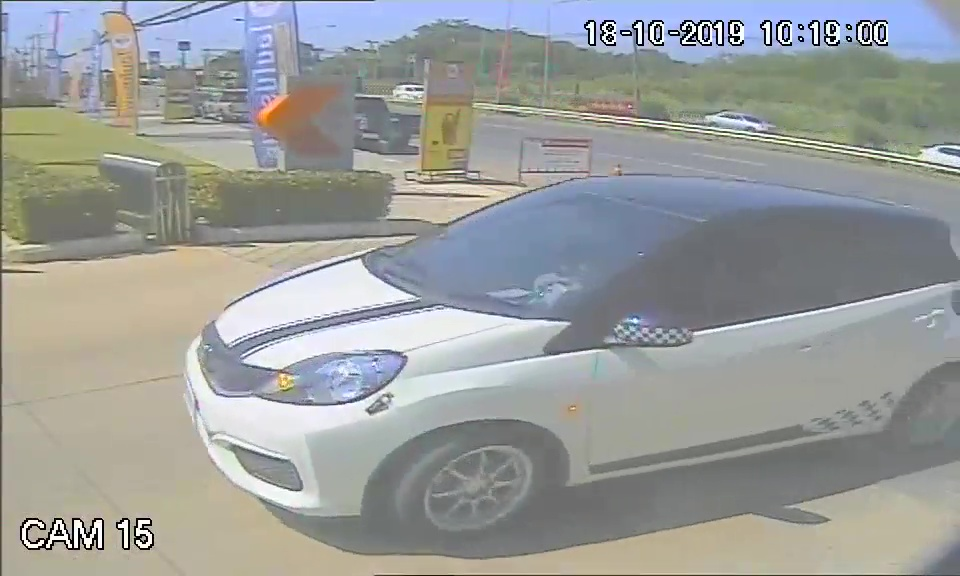sedan: (181, 170, 960, 529)
